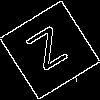Z: (25, 25, 76, 81)
